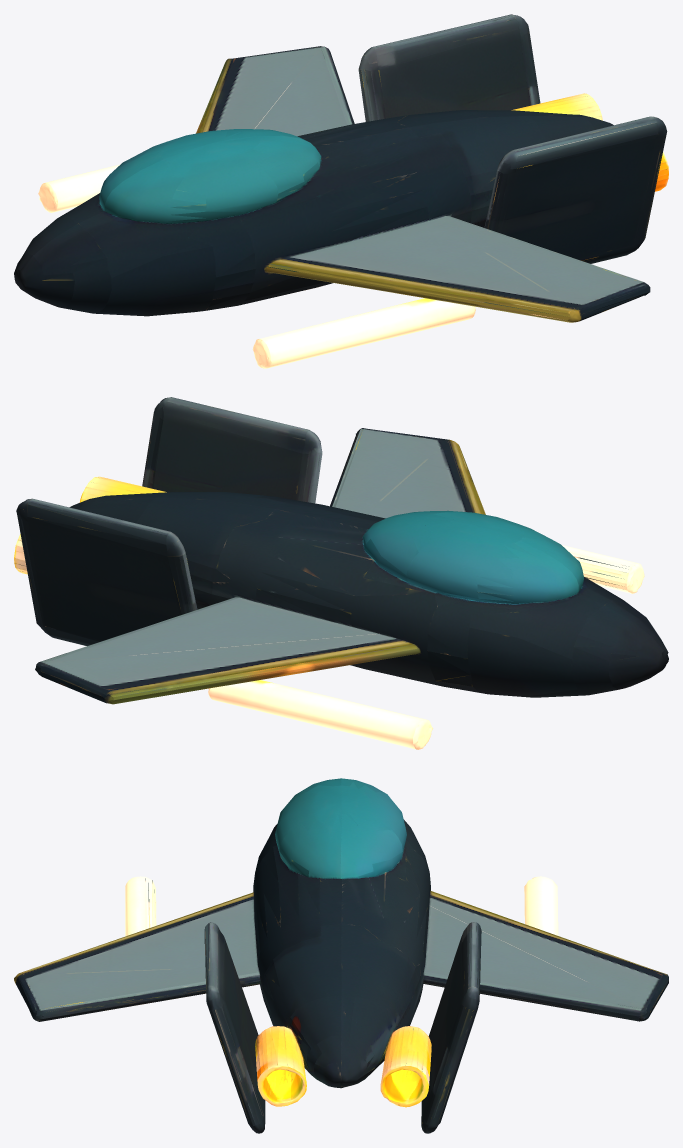
File: fighter.glb
3 views of the same model, one above another, from view 1: azimuth 30°, elevation 25°; view 2: azimuth 150°, elevation 25°; view 3: azimuth 270°, elevation 25° (orthographic). The views are drawn at different scales.
Size of the model in its own units: 1 by 0.2695 by 1.
Materials: 1 (1 with a texture image).
